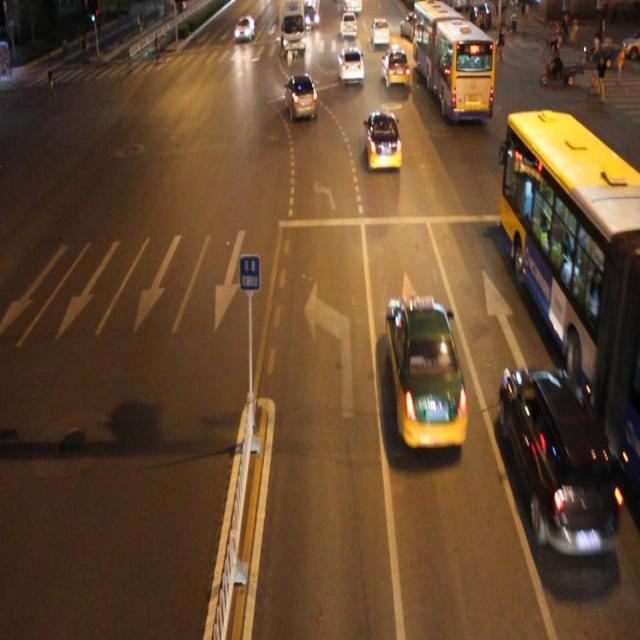car: (499, 362, 614, 552), (386, 293, 466, 443), (366, 109, 402, 168), (286, 71, 316, 117), (381, 48, 410, 85), (338, 48, 363, 82)
van: (502, 112, 640, 480), (413, 1, 493, 119)
